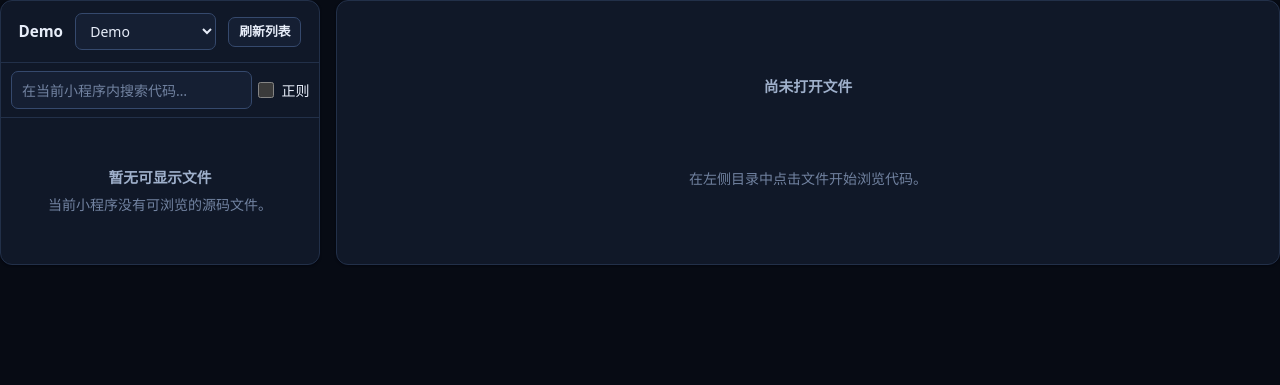
Test case: CodeBrowserView › highlights the matching line when a search result is opened
The width and height of the screenshot is (1280, 385).
Type "token" into the search field with test id "code-search".
click(131, 90); type("token")  # box [11,71,252,110]
Wait 300 ms
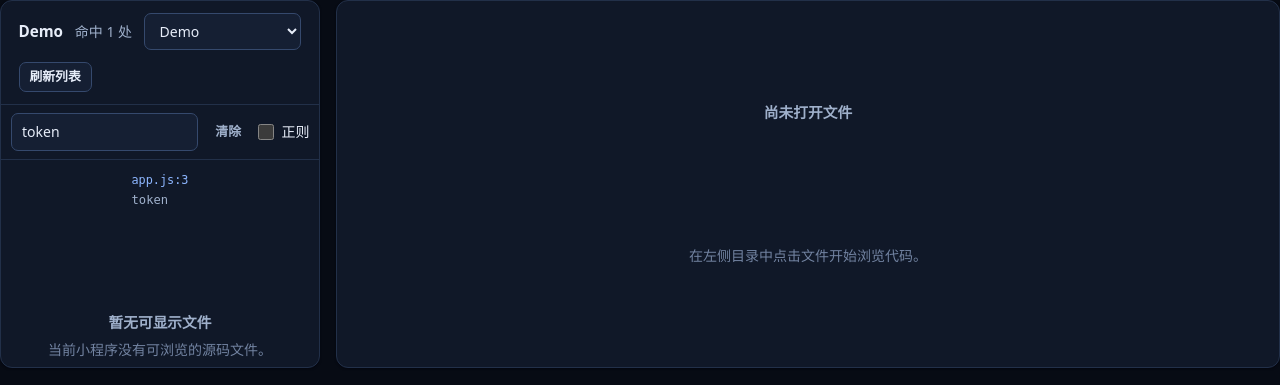
Check: the text with class "result-file" reads "app.js:3", box [132,174,188,188]
Click the button "app.js:3 token".
click(160, 191)  # box [7,167,313,215]
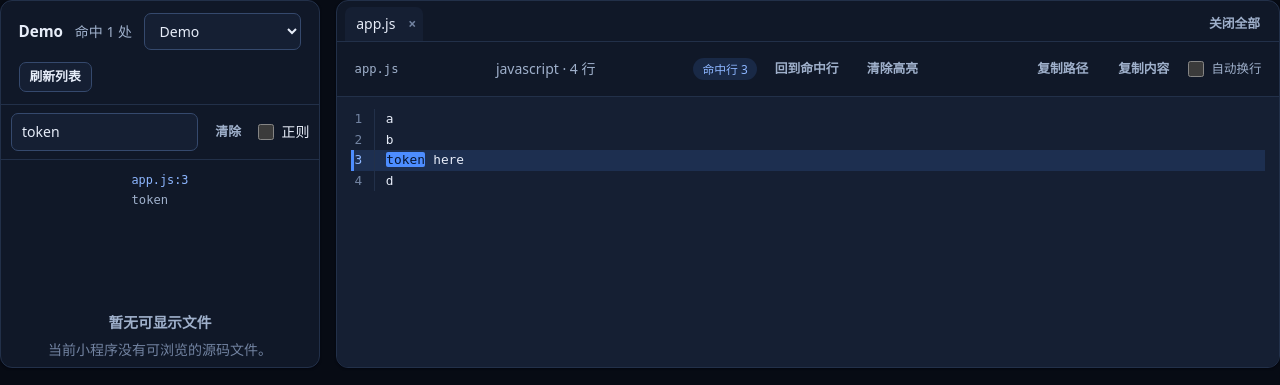
Check: the element with class "code-text" reads "token here", box [386,150,464,171]
Check: the number of elements with class "code-line" is 4, box [351,109,393,130]; [351,130,393,150]; [351,150,1265,171]; [351,171,393,191]
